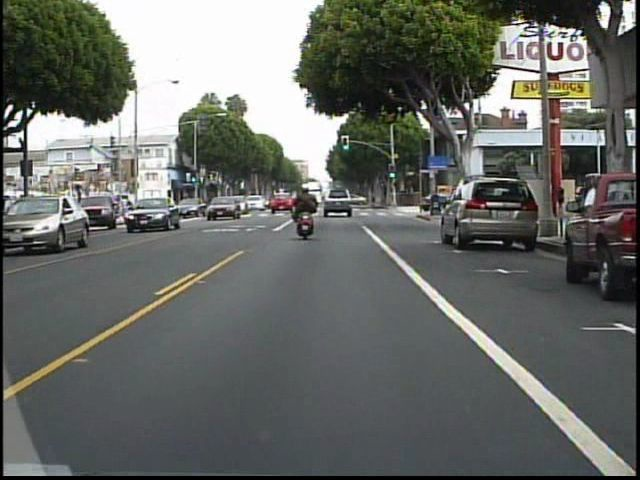person: (290, 183, 323, 239)
